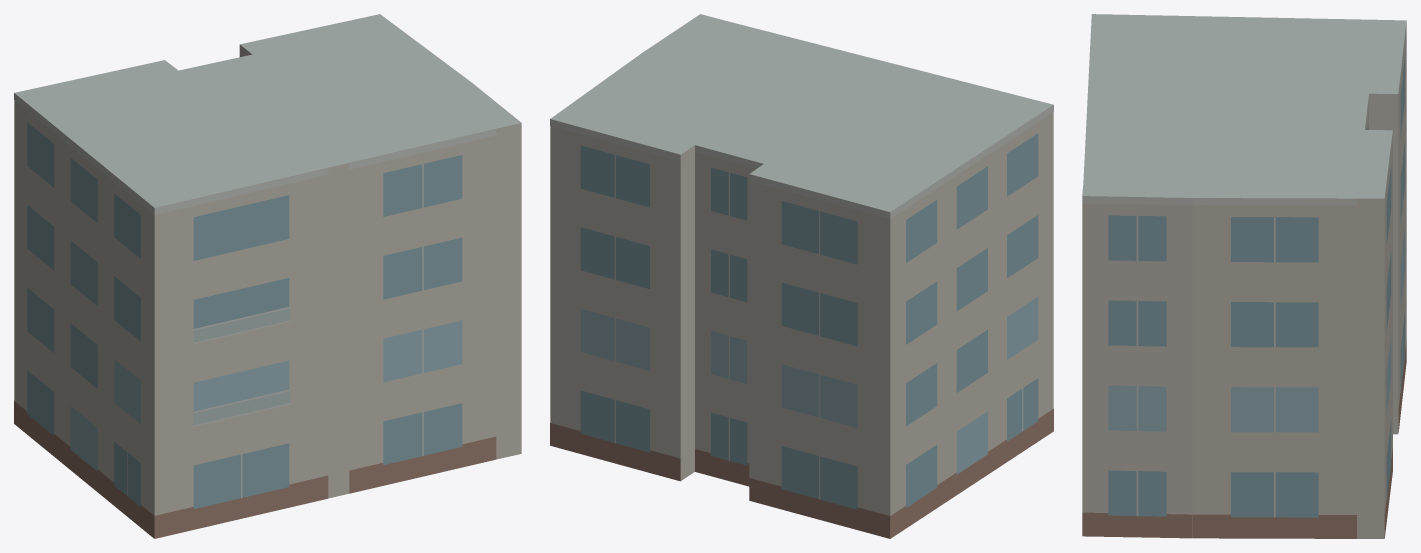
File: survey-upis-32968967.glb
The picture shows the model from 3 angles, left to right: view 1: azimuth 30°, elevation 25°; view 2: azimuth 150°, elevation 25°; view 3: azimuth 270°, elevation 25°; orthographic projection. The views are drawn at different scales.
Parts seen in each view (by area): view 1: survey-upis-32968967.tmp; view 2: survey-upis-32968967.tmp; view 3: survey-upis-32968967.tmp.
Part boxes in pixels (<box>): survey-upis-32968967.tmp: <box>14,14,521,538</box>; survey-upis-32968967.tmp: <box>550,14,1053,538</box>; survey-upis-32968967.tmp: <box>1082,14,1406,538</box>.
Size of the model in its own units: 13.5 by 11.6 by 10.03.
